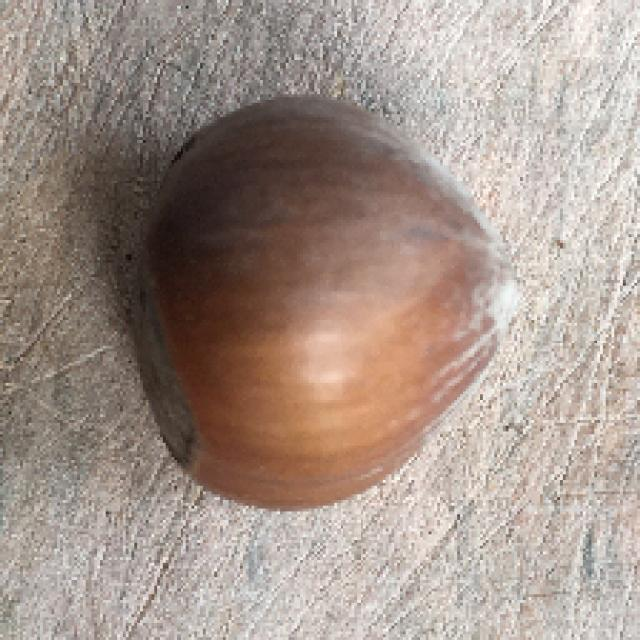qualityHazelnut: (114, 97, 520, 508)
